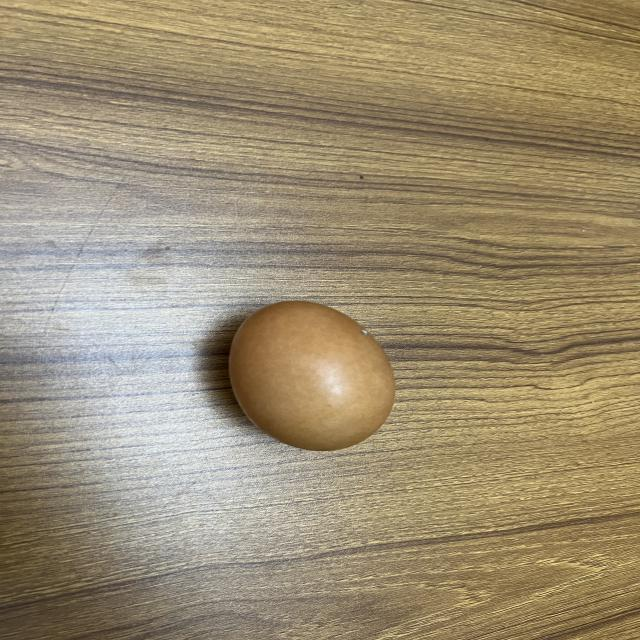egg: (216, 298, 408, 458)
